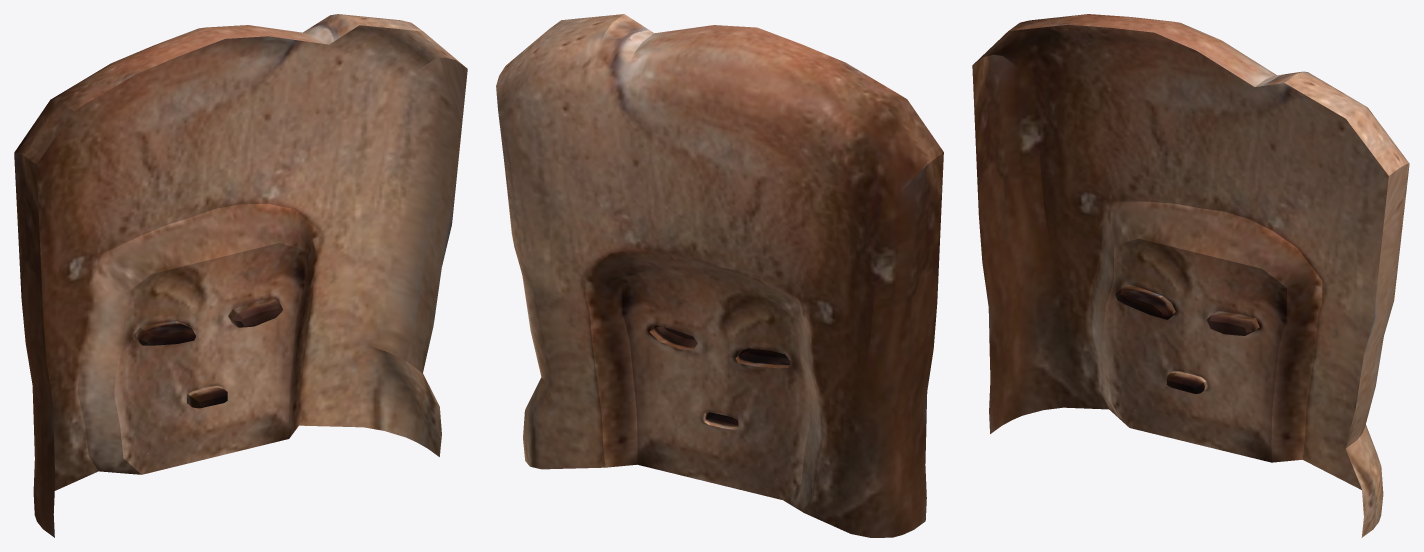
Rendered from mascara valdivia.fbx.
3 views of the same model, side by side, from view 1: azimuth 30°, elevation 25°; view 2: azimuth 150°, elevation 25°; view 3: azimuth 330°, elevation 25° (orthographic). The views are drawn at different scales.
Parts seen in each view (by area): view 1: mascara valdivia; view 2: mascara valdivia; view 3: mascara valdivia.
Part boxes in pixels (x1=…): mascara valdivia: x1=14, y1=14, x2=467, y2=537; mascara valdivia: x1=496, y1=14, x2=943, y2=537; mascara valdivia: x1=972, y1=14, x2=1409, y2=537.
Size of the model in its own units: 19.18 by 3.21 by 20.01.
Materials: 1 (1 with a texture image).
